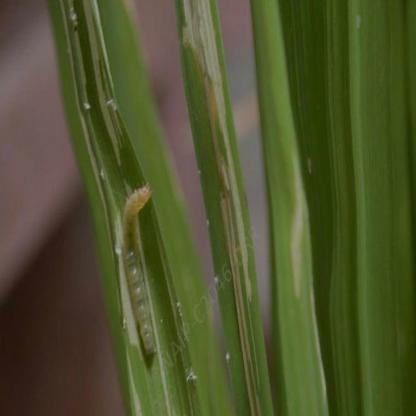leaf-folder: (108, 162, 176, 366)
